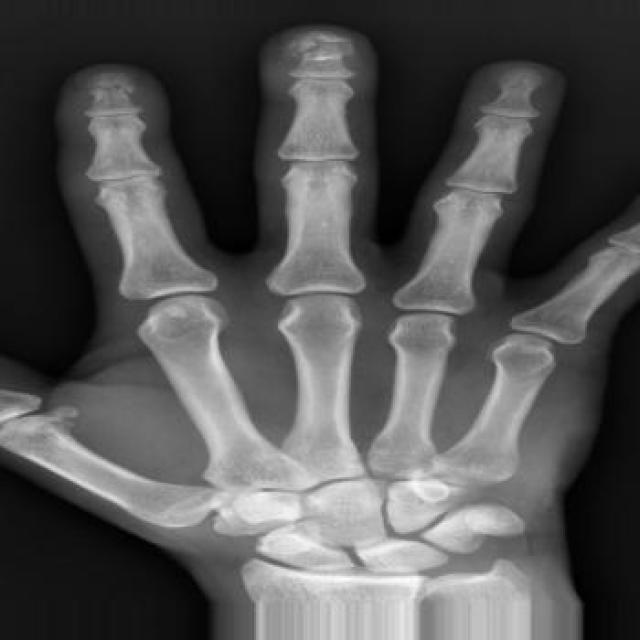Fracture: (283, 23, 372, 70), (76, 72, 165, 111)
